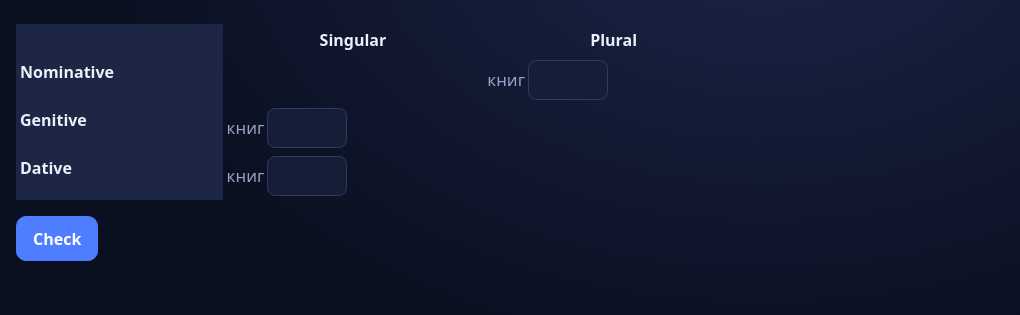
Scenario: BlindEndings — rule reminders › names the rule a wrong ending broke
Type "ы" into the field with class "ending-input" in the row of "Nominative" at coordinates (568, 80), box top-left (528, 60), bottom-right (608, 100)
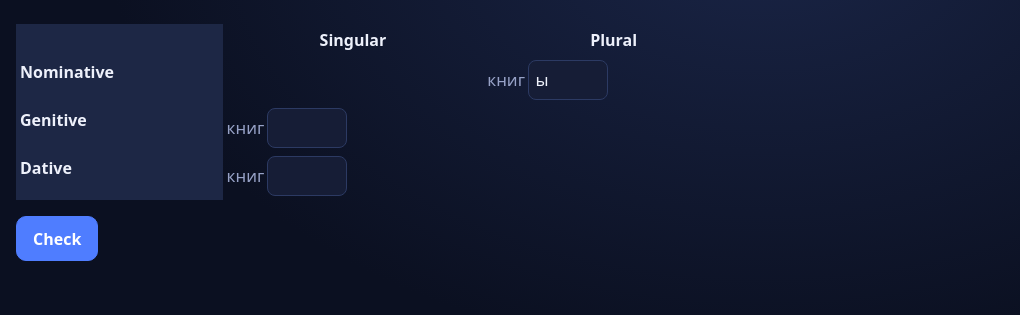
Type "и" into the field with class "ending-input" in the row of "Genitive" at coordinates (307, 128), box top-left (267, 108), bottom-right (347, 148)
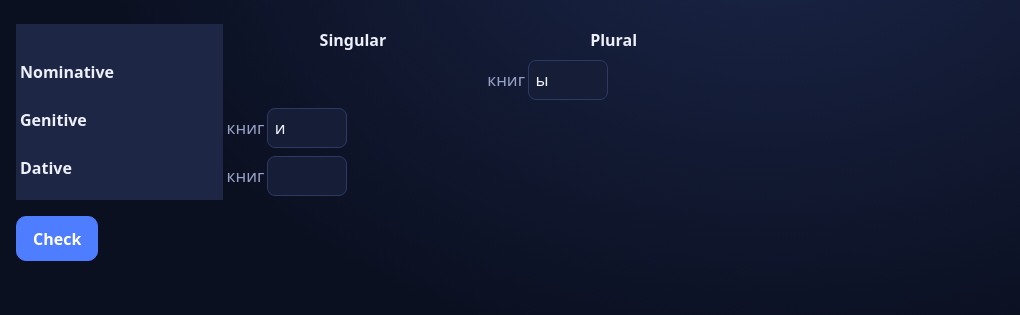
Type "е" into the field with class "ending-input" in the row of "Dative" at coordinates (307, 176), box top-left (267, 156), bottom-right (347, 196)
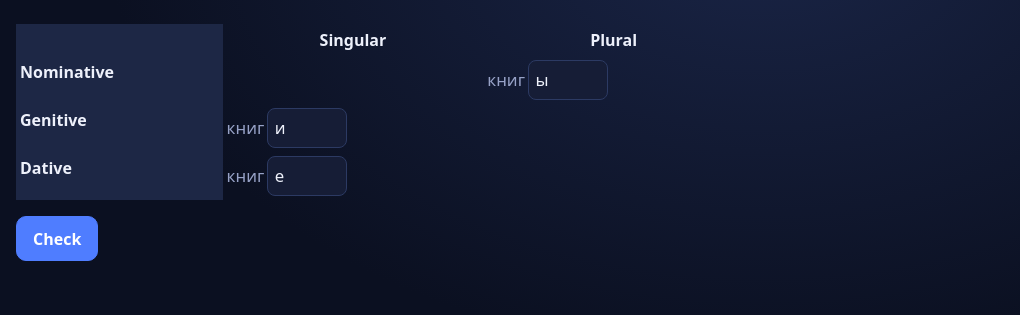
Click the button "Check" at coordinates (57, 238), box top-left (16, 216), bottom-right (98, 261)
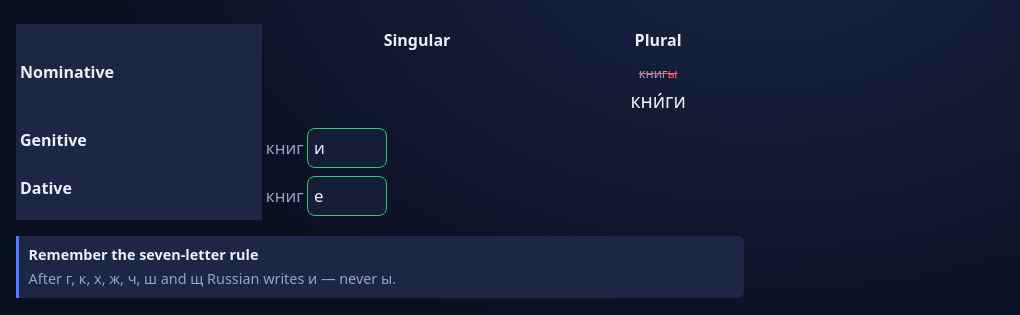
Check: the text "seven-letter rule" is shown, box top-left (29, 245), bottom-right (258, 264)
